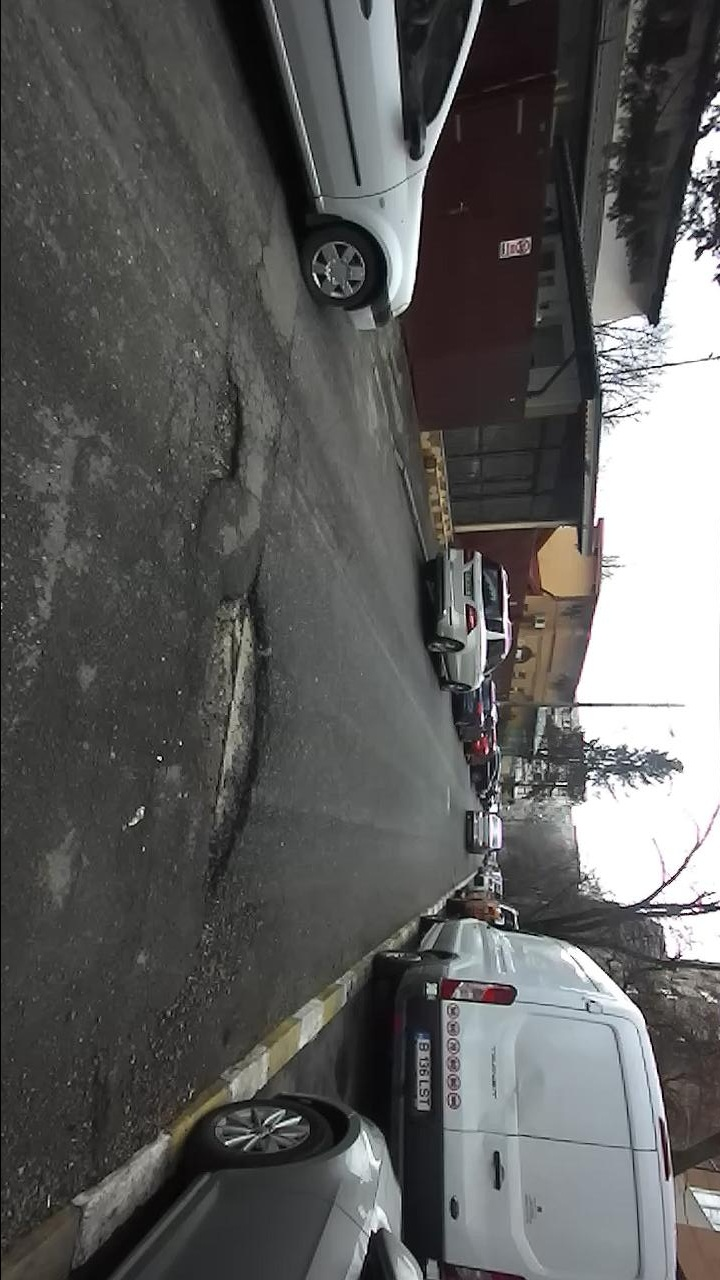pothole: (190, 550, 279, 926), (193, 352, 251, 539)
